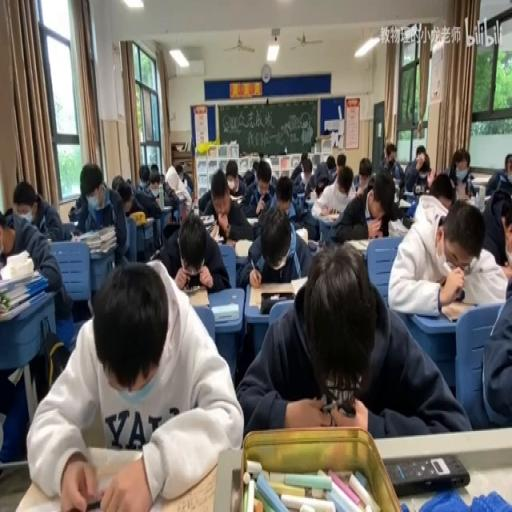calculator: (154, 461, 218, 509), (0, 289, 46, 321), (0, 266, 42, 292), (439, 298, 477, 322), (210, 300, 238, 322), (185, 287, 210, 307), (386, 216, 408, 236), (234, 236, 252, 258), (290, 274, 309, 294), (7, 364, 24, 384), (346, 238, 369, 252), (316, 208, 342, 219), (294, 224, 308, 242), (155, 193, 170, 209), (202, 216, 214, 235), (402, 189, 418, 201), (230, 194, 243, 204), (246, 214, 258, 224), (149, 184, 159, 196), (398, 198, 412, 206), (224, 239, 236, 247), (305, 196, 314, 206), (484, 193, 493, 202), (296, 190, 305, 198), (144, 216, 154, 223), (393, 179, 400, 189)
paper: (28, 258, 242, 510), (237, 243, 465, 441), (464, 260, 510, 430), (240, 202, 310, 303), (72, 161, 130, 267), (338, 168, 398, 243), (196, 168, 253, 244), (10, 180, 72, 244), (480, 165, 512, 266), (146, 164, 180, 228), (405, 146, 433, 192), (307, 151, 336, 193), (378, 141, 402, 185), (428, 171, 454, 209), (272, 174, 292, 216), (114, 176, 134, 215), (68, 192, 86, 223), (451, 155, 469, 183), (290, 154, 304, 182), (138, 162, 150, 192), (57, 222, 76, 240), (182, 171, 194, 196), (225, 163, 237, 185), (1, 205, 13, 225), (262, 154, 274, 174), (243, 166, 255, 184), (180, 199, 189, 222), (502, 158, 510, 180), (174, 164, 184, 180), (336, 154, 346, 169), (252, 158, 258, 171), (125, 176, 131, 186)
person: (384, 452, 470, 494), (260, 292, 294, 314), (69, 494, 104, 510), (308, 239, 318, 252)
